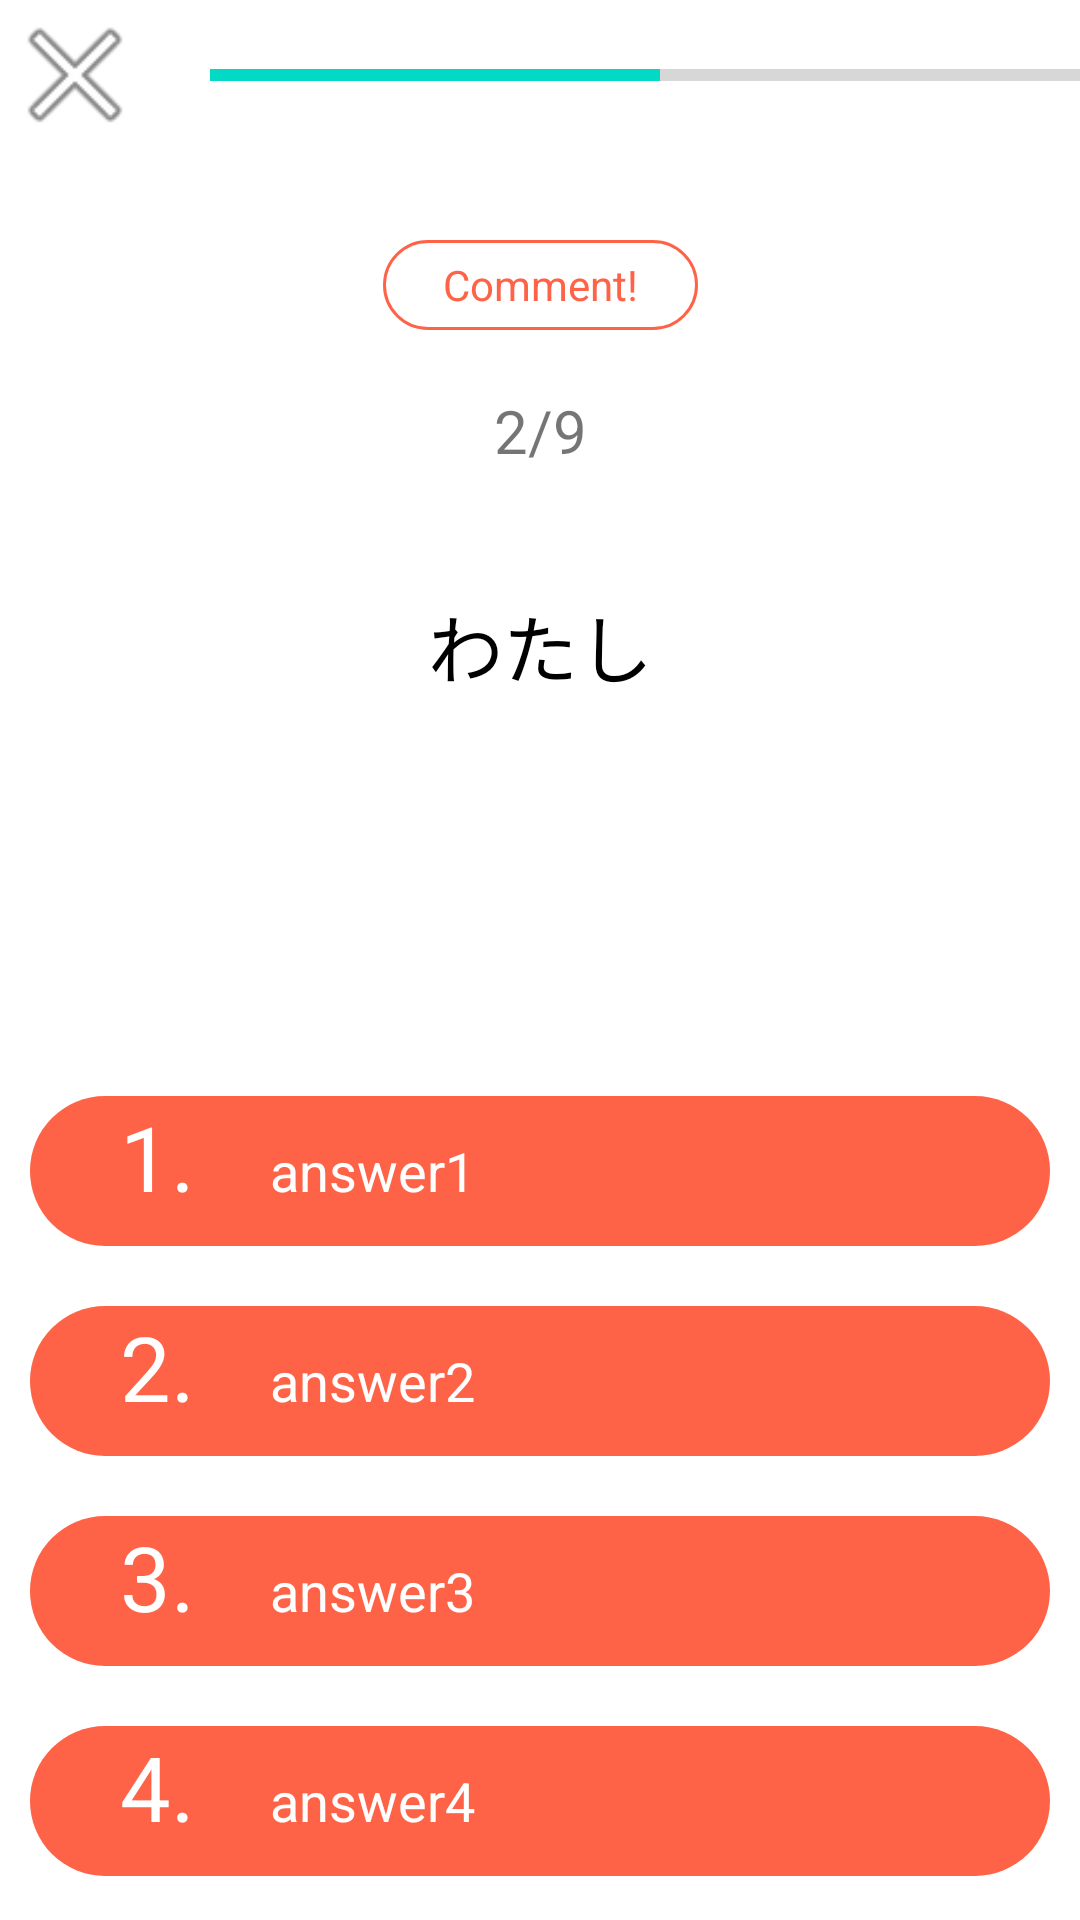

Locate icon controls on the screen. Image size 1080px×1920px, boxes as (x1,y1,x2,y2).
close clear cancel: (28,28,122,122)
